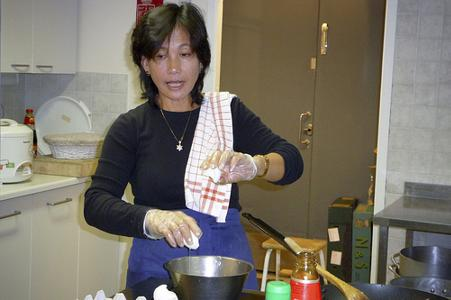person: (86, 4, 306, 295)
